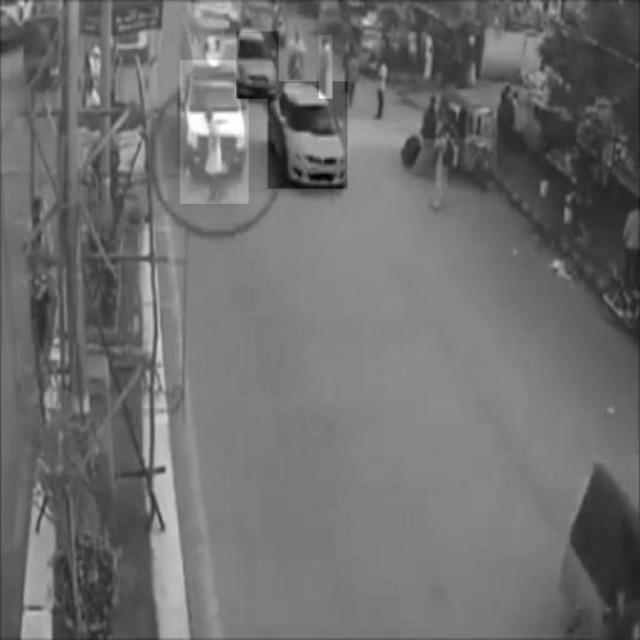accident: (180, 60, 248, 204)
person: (319, 35, 333, 99), (375, 59, 387, 120)
vehicle: (268, 81, 348, 189), (440, 88, 497, 196), (237, 31, 279, 98)
